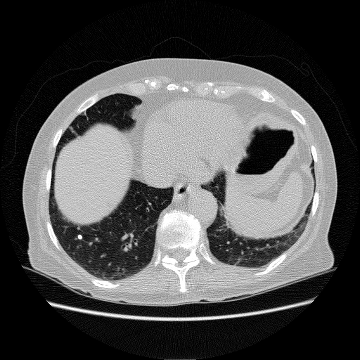nodule: (77, 235, 81, 239)
